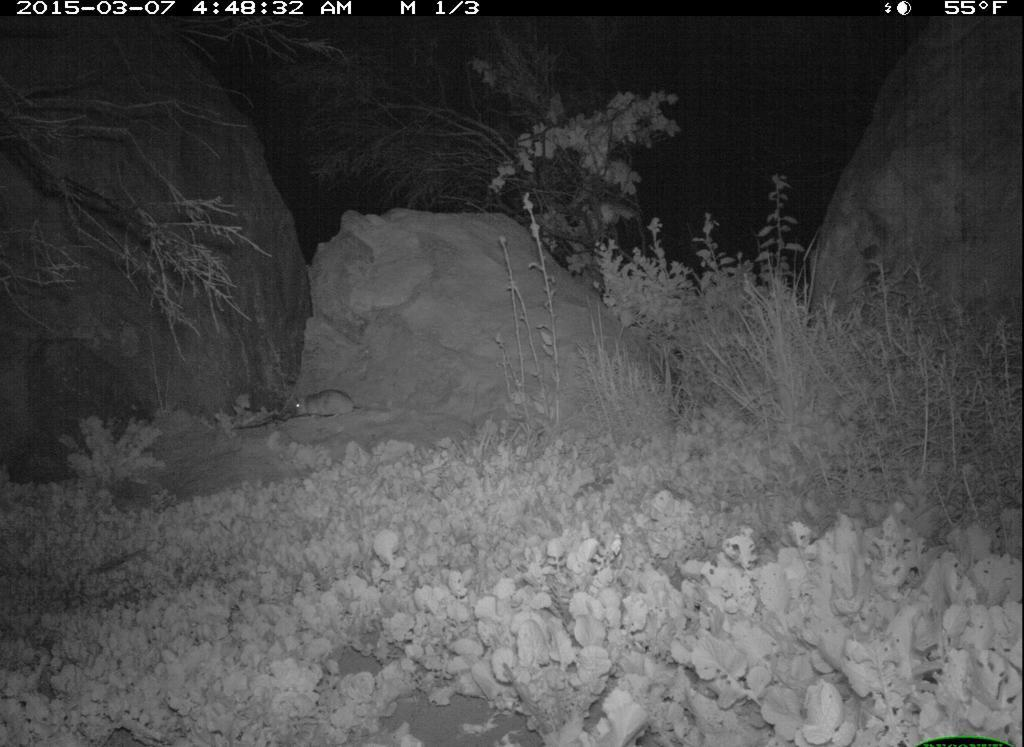rodent: (282, 381, 370, 429)
